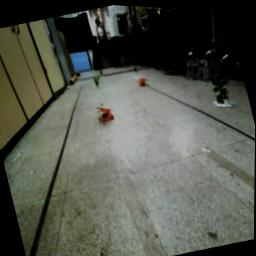herb: (210, 71, 236, 105), (94, 75, 103, 87)
wild: (97, 102, 117, 123), (138, 76, 150, 87)
